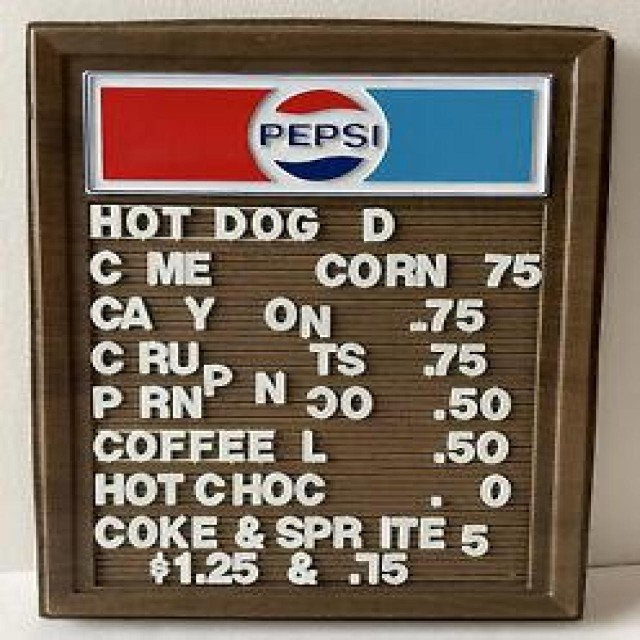pepsi: (244, 82, 398, 190)
